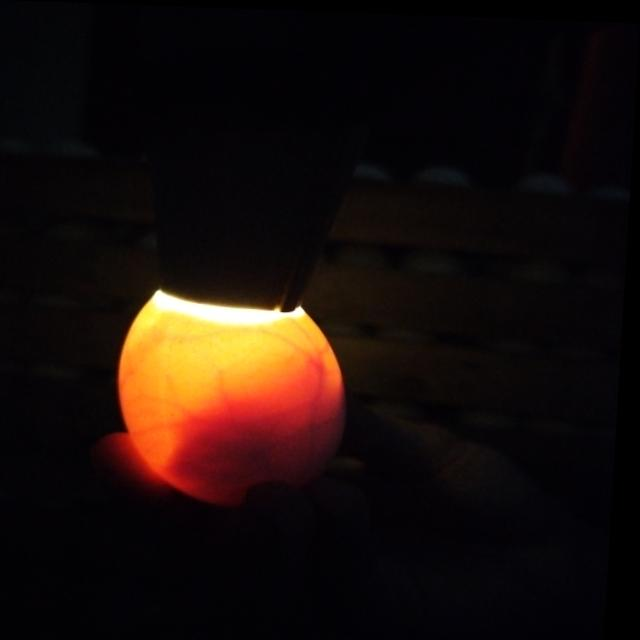Embriao: (134, 325, 343, 436)
